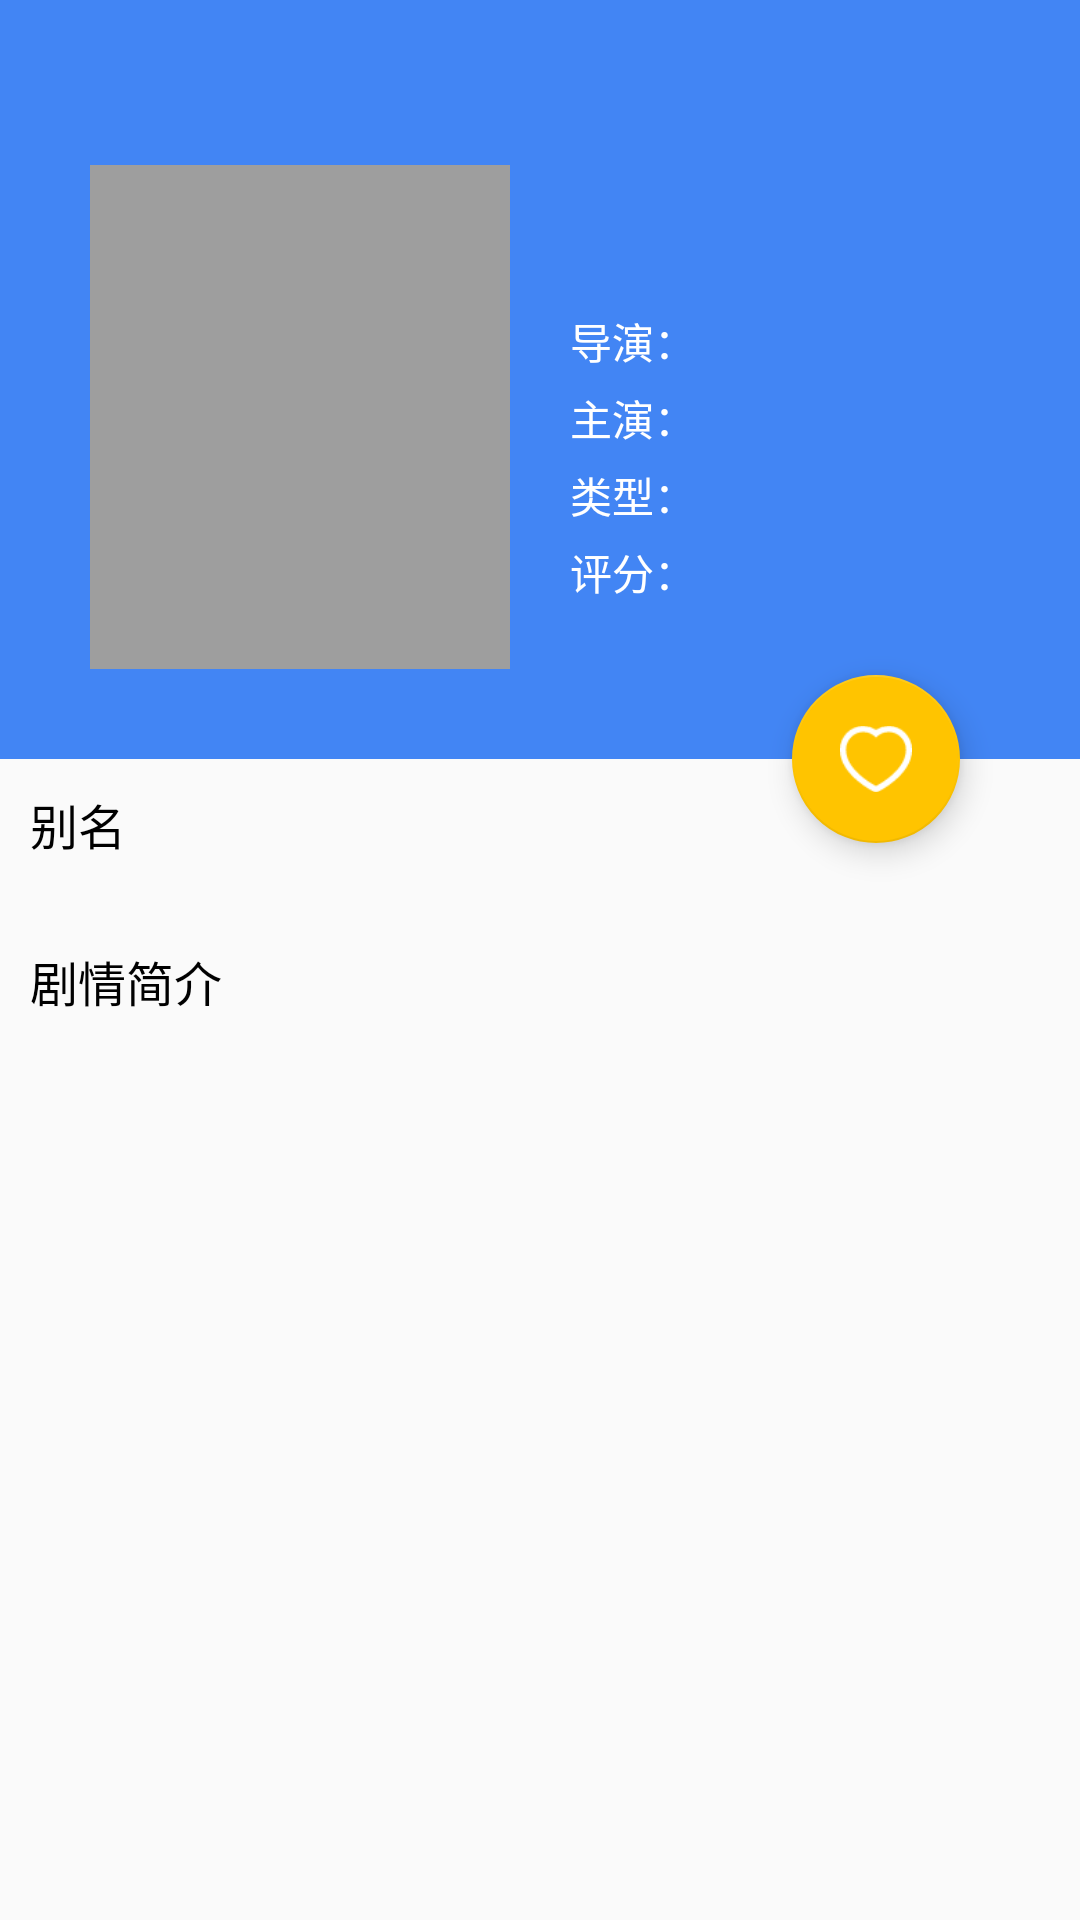

Icons on this 1080px×1920px Android screen, each with the point to tap as [x,y]:
heart: [876,759]
